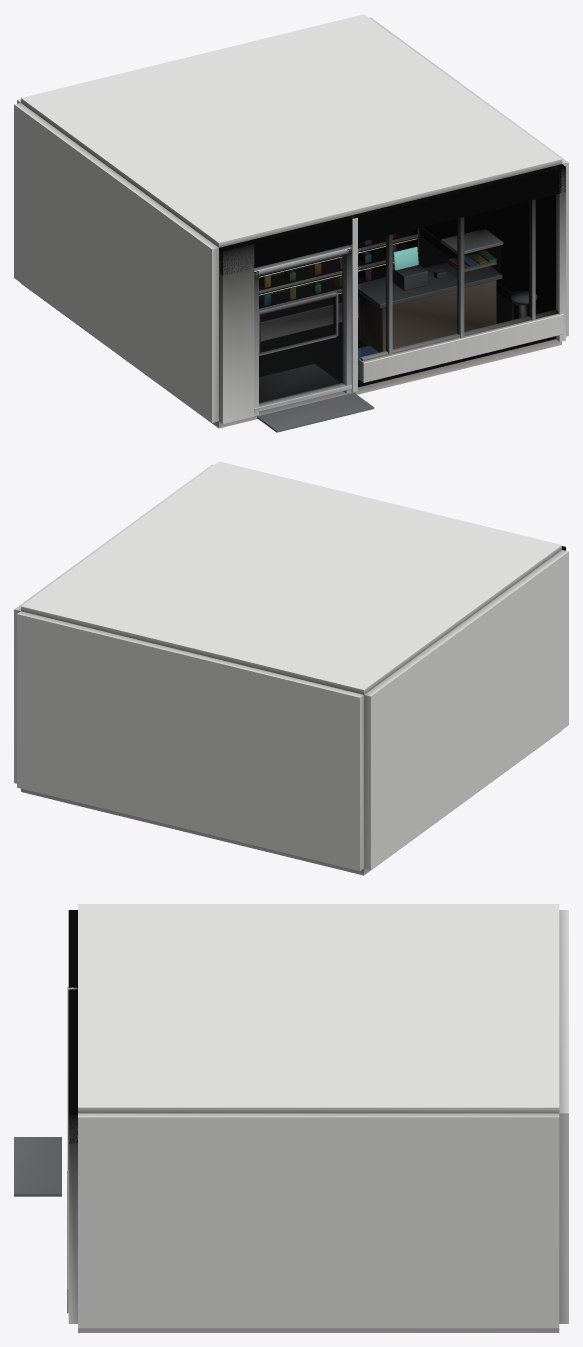
File: int.glb
3 views of the same model, one above another, from view 1: azimuth 30°, elevation 25°; view 2: azimuth 150°, elevation 25°; view 3: azimuth 270°, elevation 25° (orthographic). The views are drawn at different scales.
Parts seen in each view (by area): view 1: OBJ_room, OBJ_front, OBJ_counter, OBJ_gondola, OBJ_props; view 2: OBJ_room; view 3: OBJ_room, OBJ_front, OBJ_props.
Boxes of the visible parts, x1,y1,x2,y2 form: OBJ_room: (14, 14, 568, 428); OBJ_front: (219, 164, 565, 423); OBJ_counter: (358, 229, 503, 352); OBJ_gondola: (259, 228, 419, 341); OBJ_props: (257, 290, 537, 432); OBJ_room: (14, 461, 568, 875); OBJ_room: (78, 904, 568, 1332); OBJ_front: (67, 910, 77, 1323); OBJ_props: (14, 1137, 61, 1196).
Bounding box in the file's own units: 6.24 × 3.1 × 6.92.
